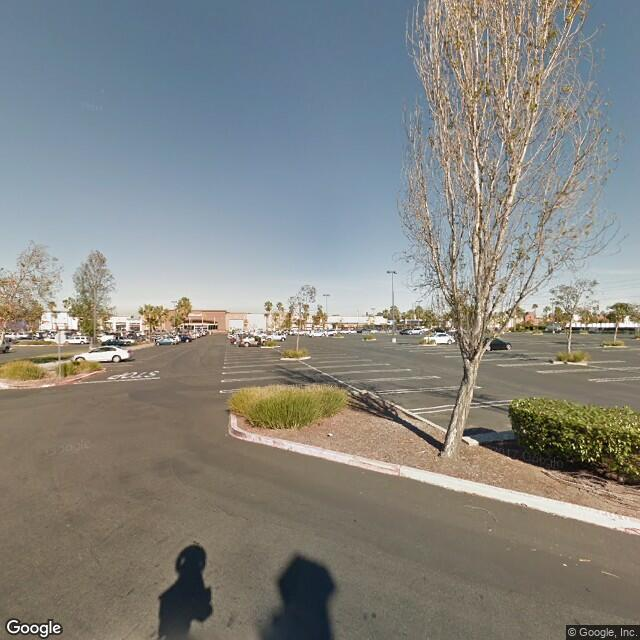litter: (222, 430, 228, 435), (327, 431, 333, 435)
